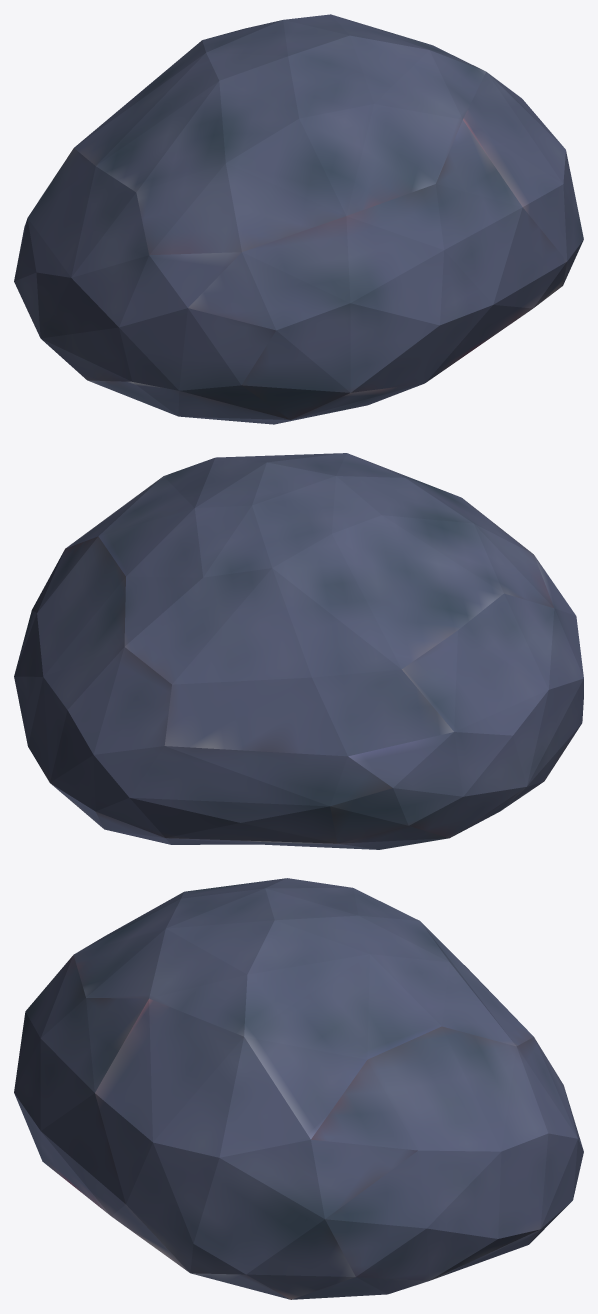
The model's file is Slime.fbx.
3 views of the same model, one above another, from view 1: azimuth 30°, elevation 25°; view 2: azimuth 150°, elevation 25°; view 3: azimuth 270°, elevation 25° (orthographic). The views are drawn at different scales.
Parts seen in each view (by area): view 1: slime_blob; view 2: slime_blob; view 3: slime_blob.
Part boxes in pixels (x1=…): slime_blob: x1=14, y1=14, x2=583, y2=424; slime_blob: x1=14, y1=453, x2=583, y2=849; slime_blob: x1=14, y1=878, x2=583, y2=1299.
Size of the model in its own units: 0.3453 by 0.2085 by 0.3301.
